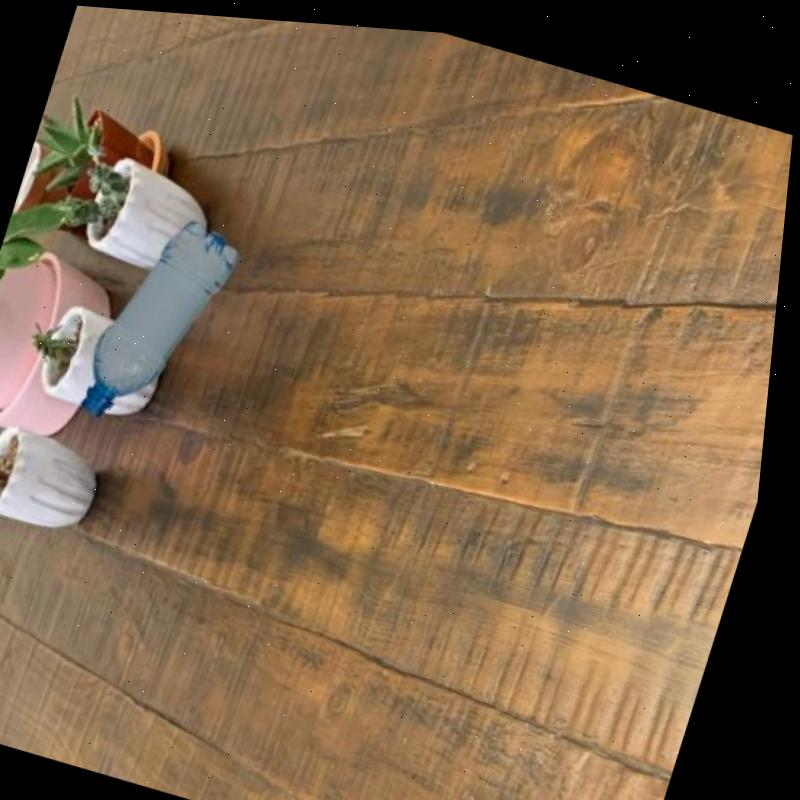botella: (81, 198, 253, 444)
